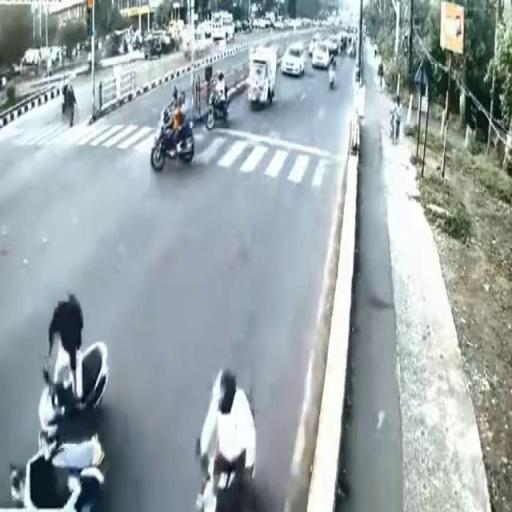小汽车: (247, 48, 276, 108), (282, 45, 306, 74)
自行车: (192, 370, 264, 509), (148, 99, 194, 165), (207, 72, 233, 131)
自行车撞自行车: (13, 289, 120, 512)
